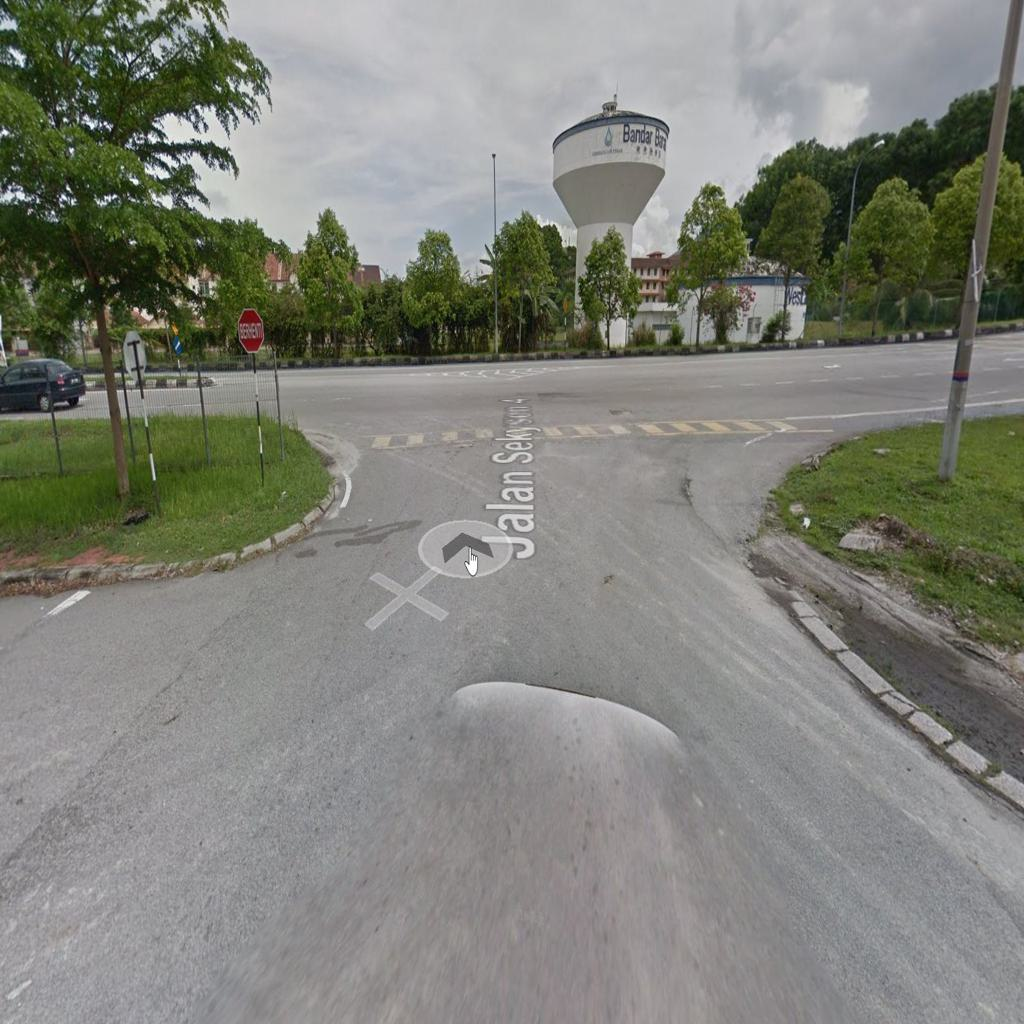Junction: (707, 319, 1022, 603), (119, 339, 379, 526)
